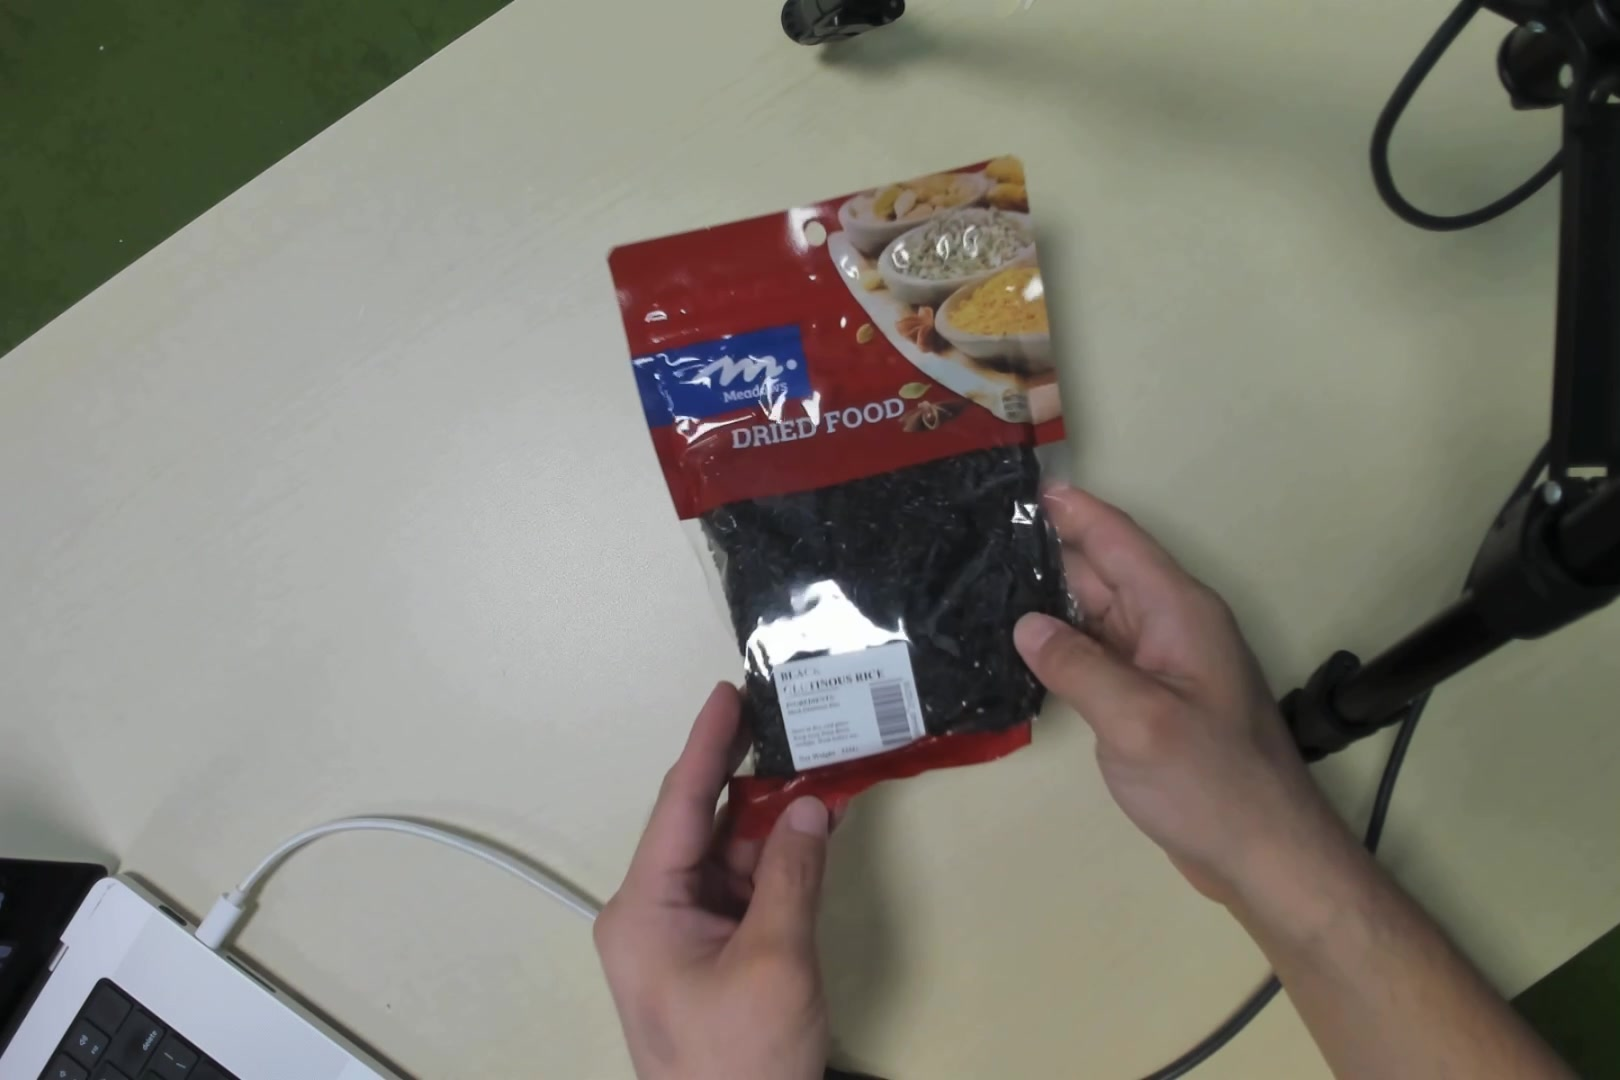OtherDriedFood_100-199g_NonHalal_NonHealthy: (675, 147, 1074, 785)
